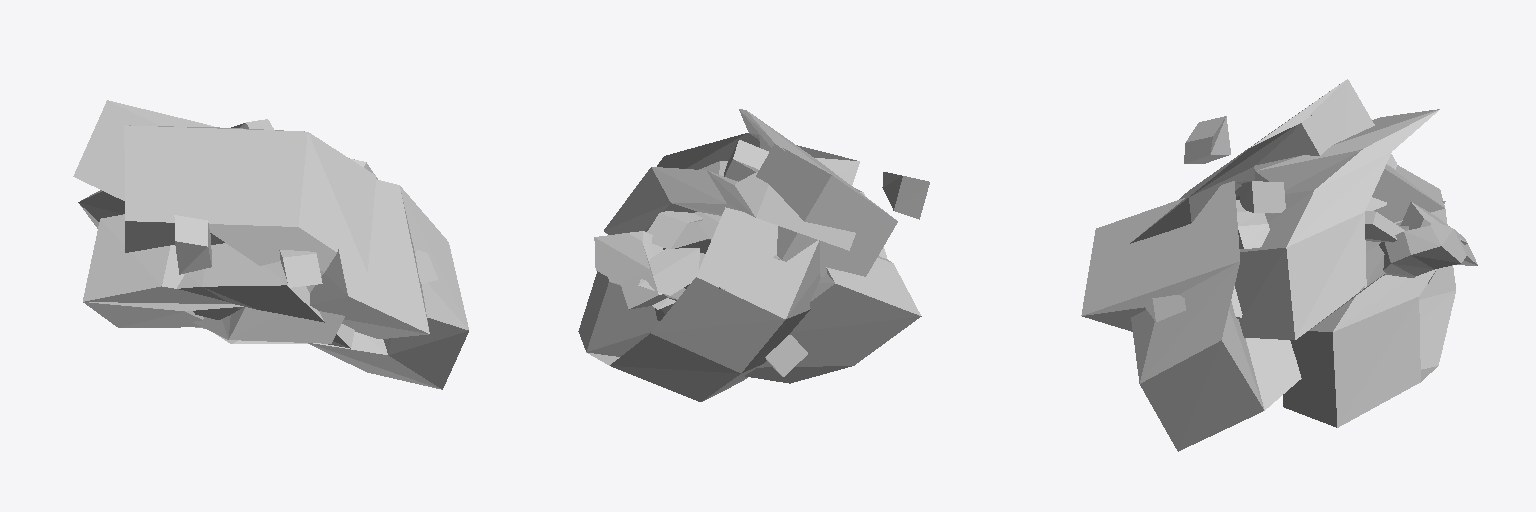
Rendered from rock.obj.
3 views of the same model, side by side, from view 1: azimuth 30°, elevation 25°; view 2: azimuth 150°, elevation 25°; view 3: azimuth 270°, elevation 25° (orthographic).
Visible parts, largest first — view 1: group[number redacted], group[number redacted], group[number redacted], group[number redacted], group[number redacted], group[number redacted], group[number redacted]; view 2: group[number redacted], group[number redacted], group[number redacted], group[number redacted], group[number redacted], group[number redacted], group[number redacted], group[number redacted], group[number redacted]; view 3: group[number redacted], group[number redacted], group[number redacted], group[number redacted], group[number redacted], group[number redacted], group[number redacted], group[number redacted].
Part boxes in pixels (bbox=[...]): group[number redacted]: bbox=[124, 125, 375, 343]; group[number redacted]: bbox=[308, 179, 468, 389]; group[number redacted]: bbox=[83, 214, 243, 328]; group[number redacted]: bbox=[177, 243, 354, 348]; group[number redacted]: bbox=[73, 100, 377, 343]; group[number redacted]: bbox=[174, 215, 211, 274]; group[number redacted]: bbox=[279, 250, 322, 287]; group[number redacted]: bbox=[578, 167, 855, 401]; group[number redacted]: bbox=[695, 109, 897, 276]; group[number redacted]: bbox=[745, 256, 921, 383]; group[number redacted]: bbox=[594, 231, 699, 320]; group[number redacted]: bbox=[657, 133, 859, 185]; group[number redacted]: bbox=[647, 186, 861, 248]; group[number redacted]: bbox=[882, 172, 929, 219]; group[number redacted]: bbox=[699, 140, 768, 181]; group[number redacted]: bbox=[765, 335, 807, 376]; group[number redacted]: bbox=[1235, 109, 1455, 427]; group[number redacted]: bbox=[1081, 181, 1301, 451]; group[number redacted]: bbox=[1130, 79, 1396, 243]; group[number redacted]: bbox=[1379, 202, 1477, 283]; group[number redacted]: bbox=[1235, 181, 1285, 248]; group[number redacted]: bbox=[1184, 116, 1230, 163]; group[number redacted]: bbox=[1365, 211, 1404, 242]; group[number redacted]: bbox=[1143, 295, 1185, 321].
Bounding box in the file's own units: 0.2311 × 0.1751 × 0.2432.